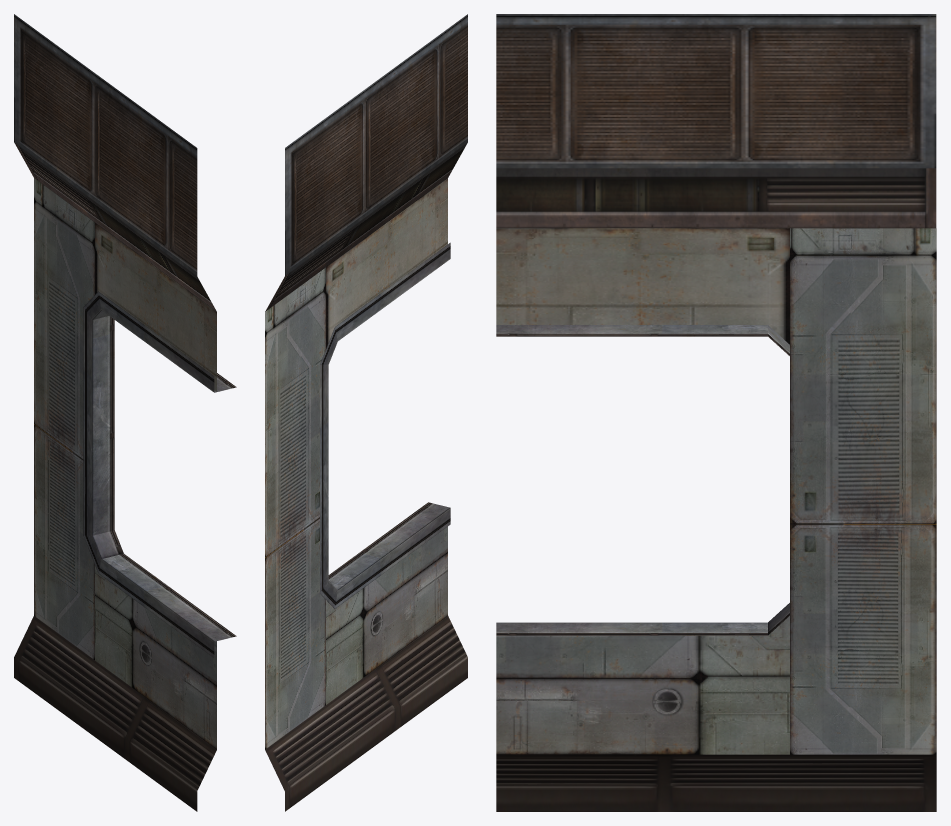
File: Wall_High_new00.fbx
The picture shows the model from 3 angles, left to right: view 1: azimuth 30°, elevation 25°; view 2: azimuth 150°, elevation 25°; view 3: azimuth 270°, elevation 25°; orthographic projection. The views are drawn at different scales.
Parts seen in each view (by area): view 1: Wall_High_new00; view 2: Wall_High_new00; view 3: Wall_High_new00.
Boxes of the visible parts, box(x1,y1,x2,y2) form: Wall_High_new00: box(14, 14, 236, 811); Wall_High_new00: box(265, 14, 467, 811); Wall_High_new00: box(496, 14, 936, 811).
Size of the model in its own units: 25 by 400 by 200.
